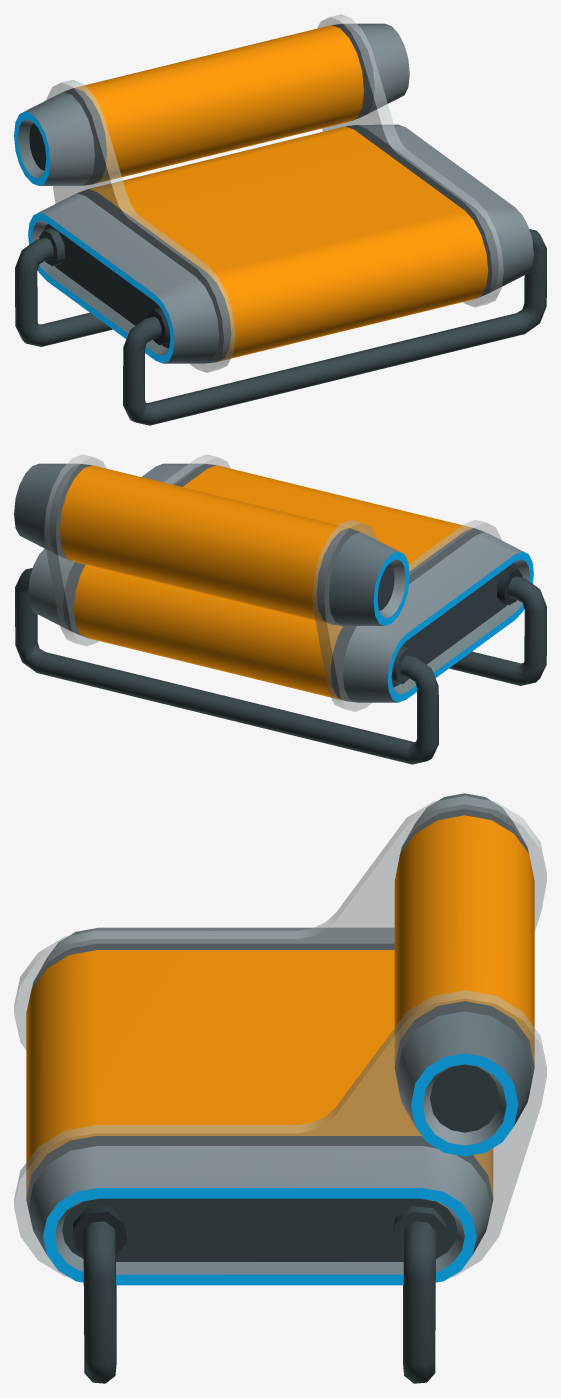
The model's file is Mini_sofa_003.glb.
The picture shows the model from 3 angles, top to bottom: view 1: azimuth 30°, elevation 25°; view 2: azimuth 150°, elevation 25°; view 3: azimuth 270°, elevation 25°; orthographic projection. The views are drawn at different scales.
Parts seen in each view (by area): view 1: Mini_sofa_003; view 2: Mini_sofa_003; view 3: Mini_sofa_003.
Part boxes in pixels (left/top/right/bottom): Mini_sofa_003: left=14, top=14, right=546, bottom=425; Mini_sofa_003: left=14, top=454, right=546, bottom=764; Mini_sofa_003: left=14, top=793, right=546, bottom=1383.
Size of the model in its own units: 1.32 by 0.7108 by 0.9799.
Materials: 3 (3 with a texture image).
